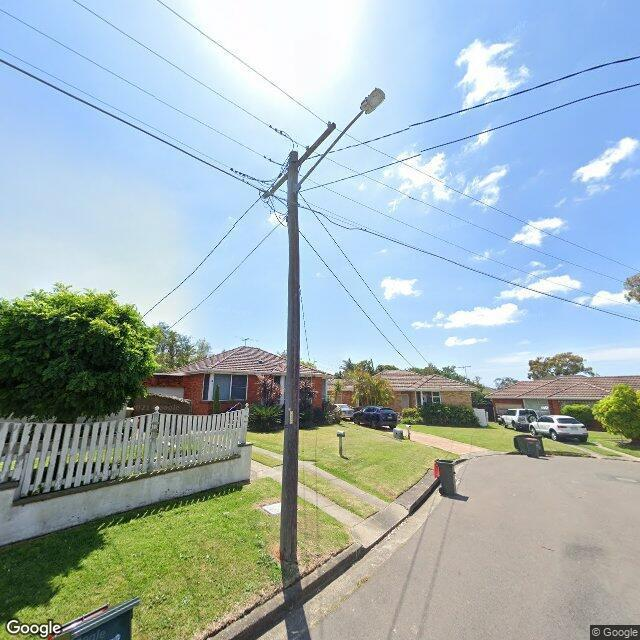crossarm: (261, 122, 337, 199)
streetlight: (293, 86, 387, 196)
timber-pole: (279, 151, 298, 565)
